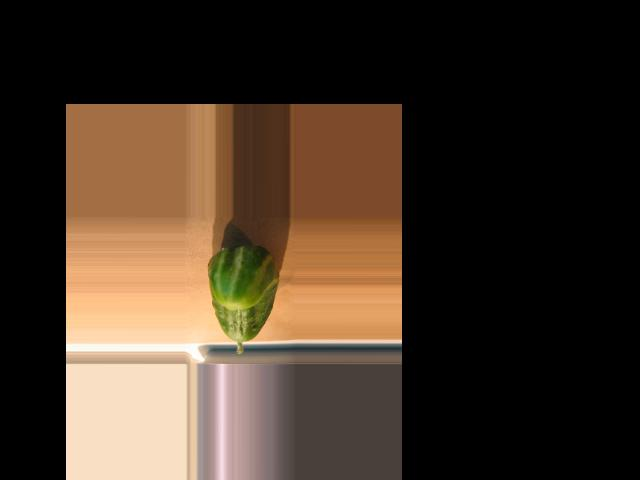cucumber: (207, 245, 278, 354)
